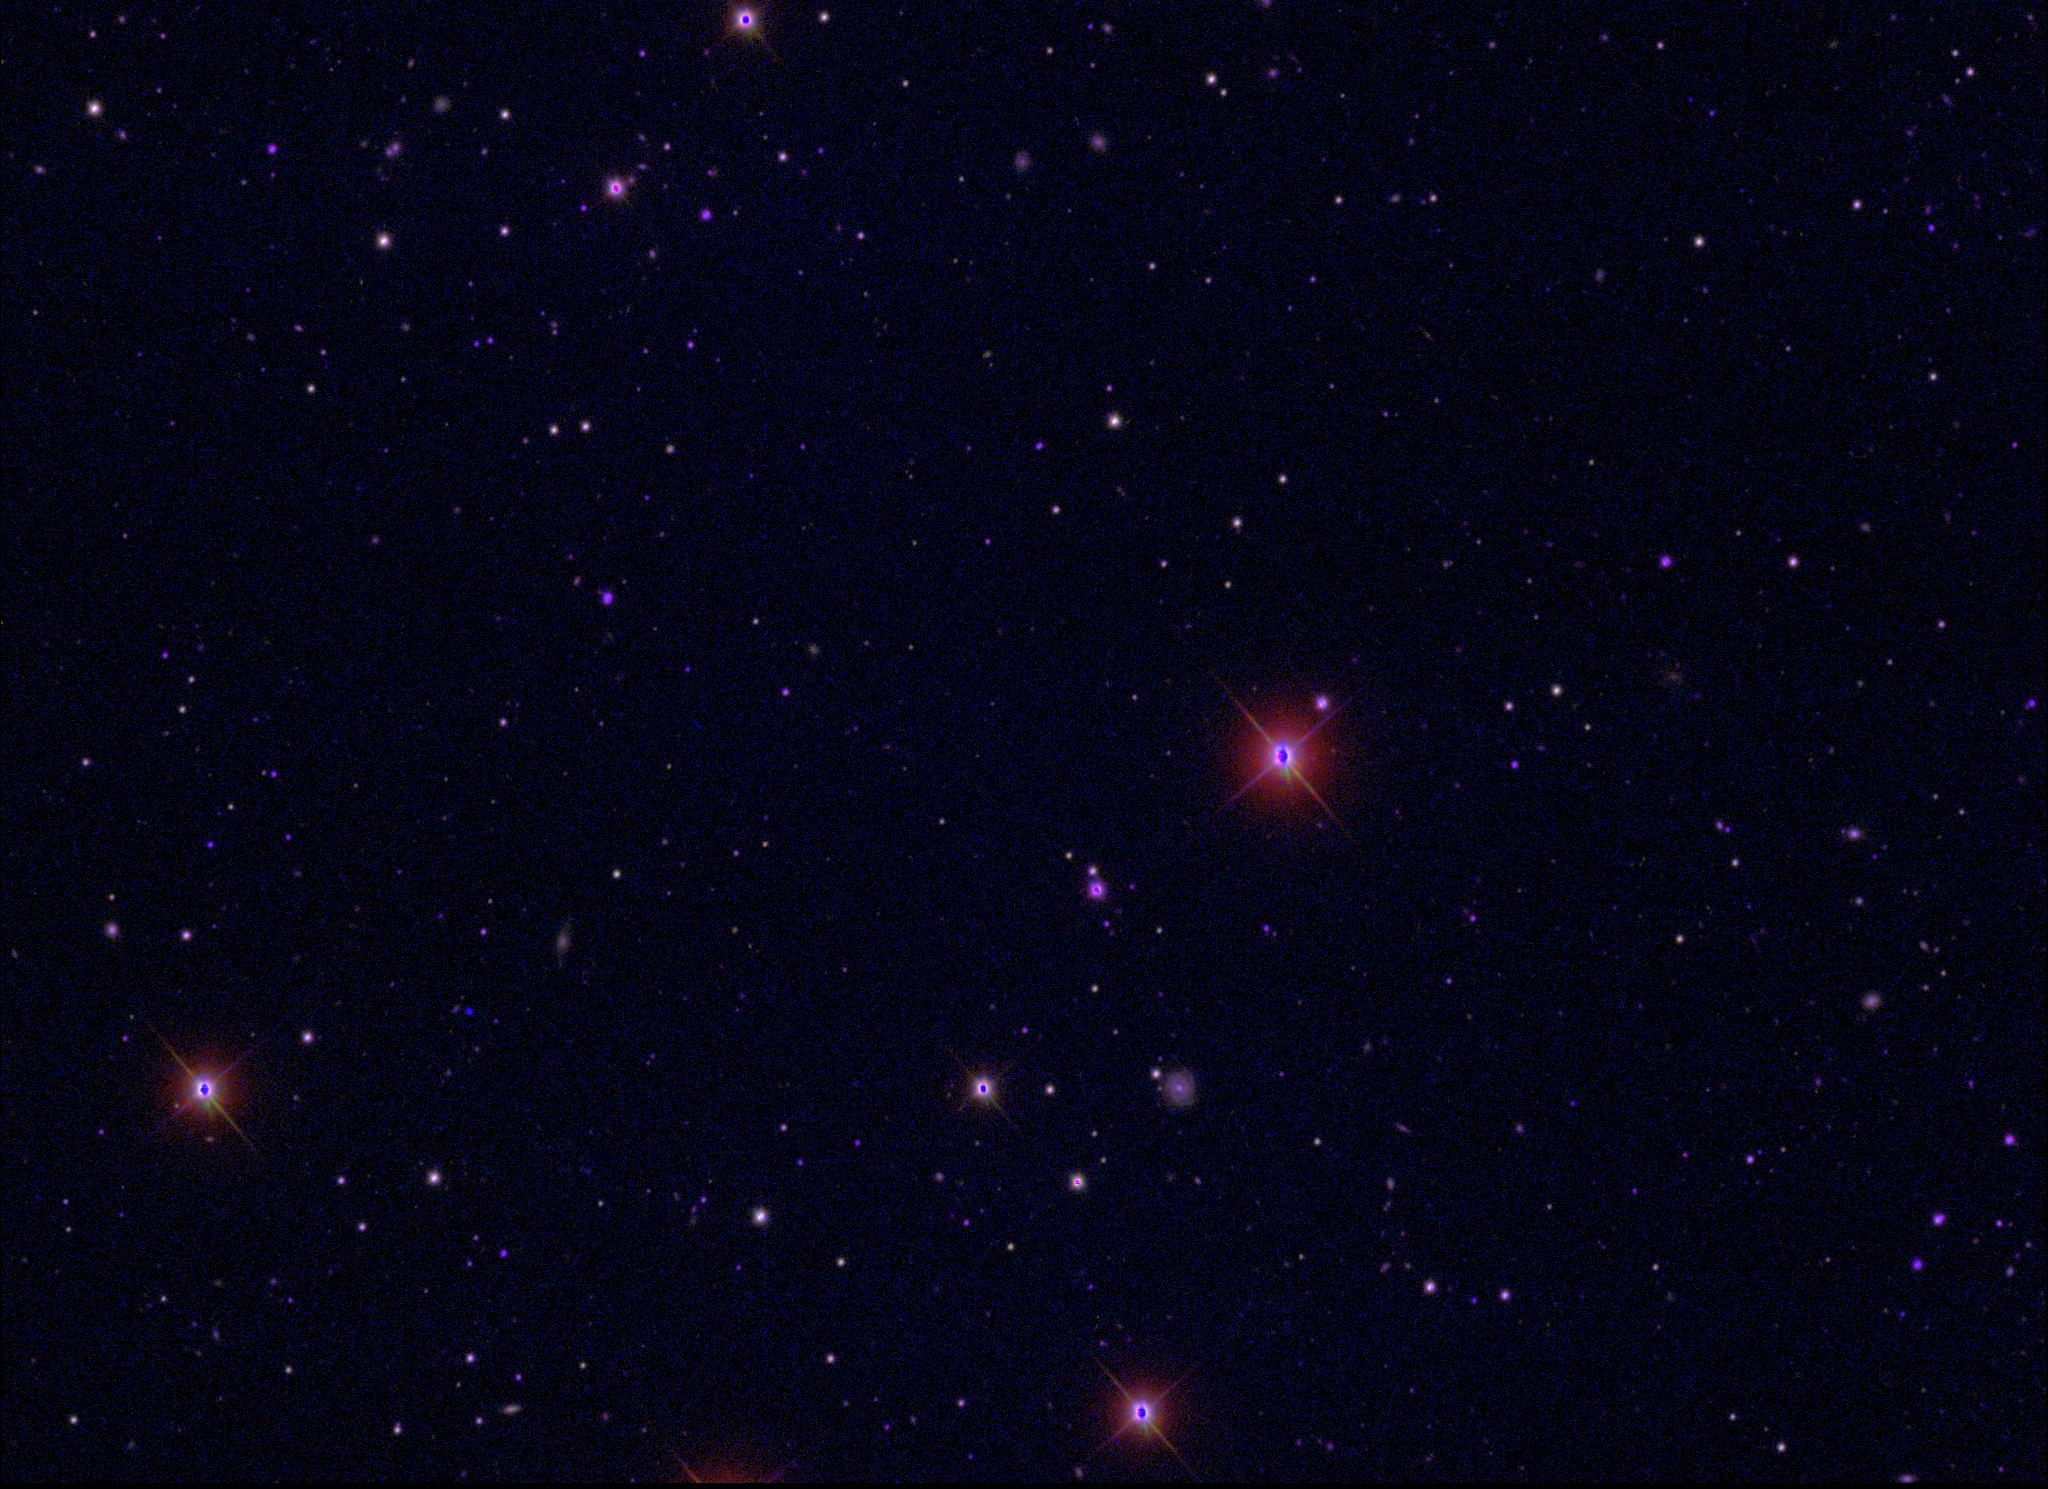L: (460, 1004, 472, 1018)
